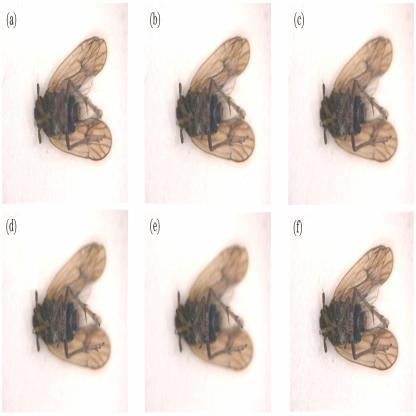brown-planthopper: (318, 233, 401, 372), (172, 235, 256, 372), (32, 232, 111, 376), (318, 29, 400, 167), (173, 32, 256, 163), (33, 33, 113, 164)
